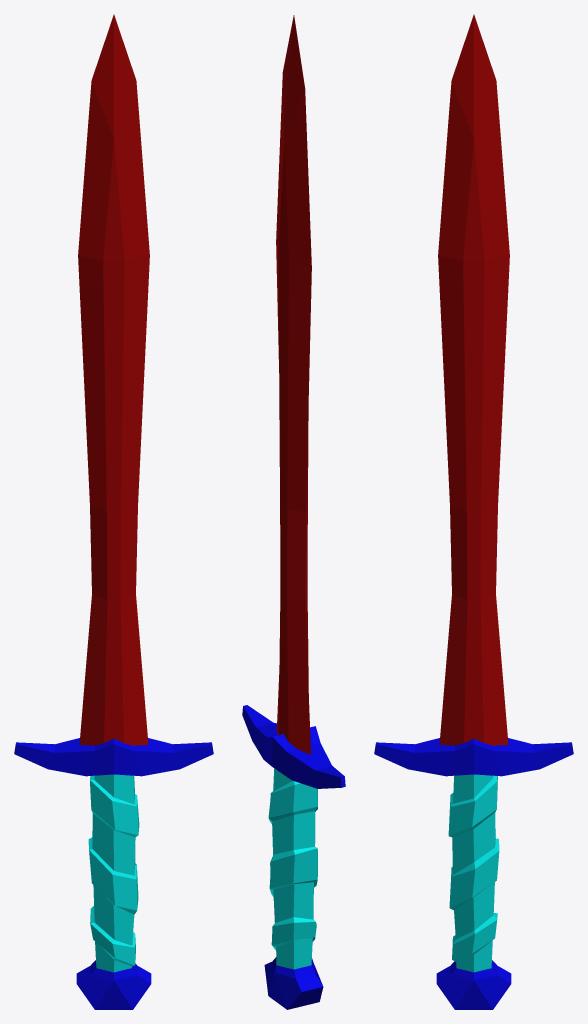
The model's file is Greatsword_Common_Bastard.fbx.
3 renders of one model, left to right at view 1: azimuth 90°, elevation 25°; view 2: azimuth 210°, elevation 25°; view 3: azimuth 270°, elevation 25°, orthographic.
Visible parts, largest first — view 1: SM_Wep_Sword_09; view 2: SM_Wep_Sword_09; view 3: SM_Wep_Sword_09.
Boxes of the visible parts, x1,y1,x2,y2 form: SM_Wep_Sword_09: [14, 14, 213, 1009]; SM_Wep_Sword_09: [242, 15, 345, 1009]; SM_Wep_Sword_09: [374, 14, 573, 1009].
Bounding box in the file's own units: 5.43 × 104 × 18.9.
